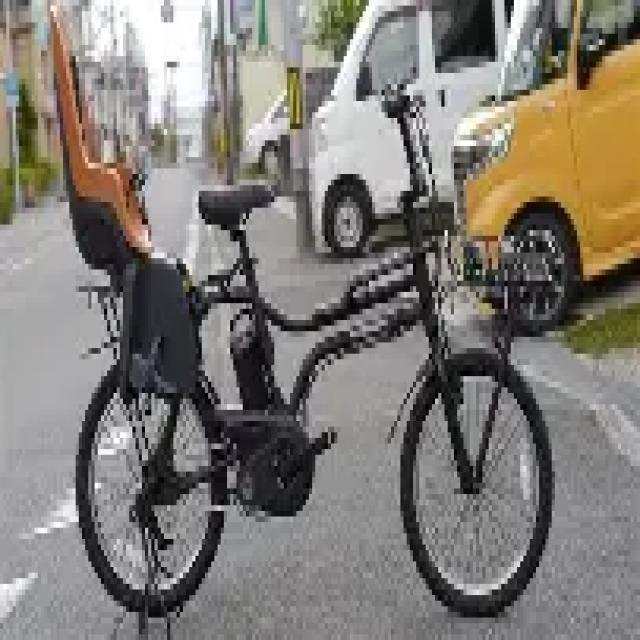battery: (231, 302, 274, 424)
childseat: (50, 11, 204, 410)
